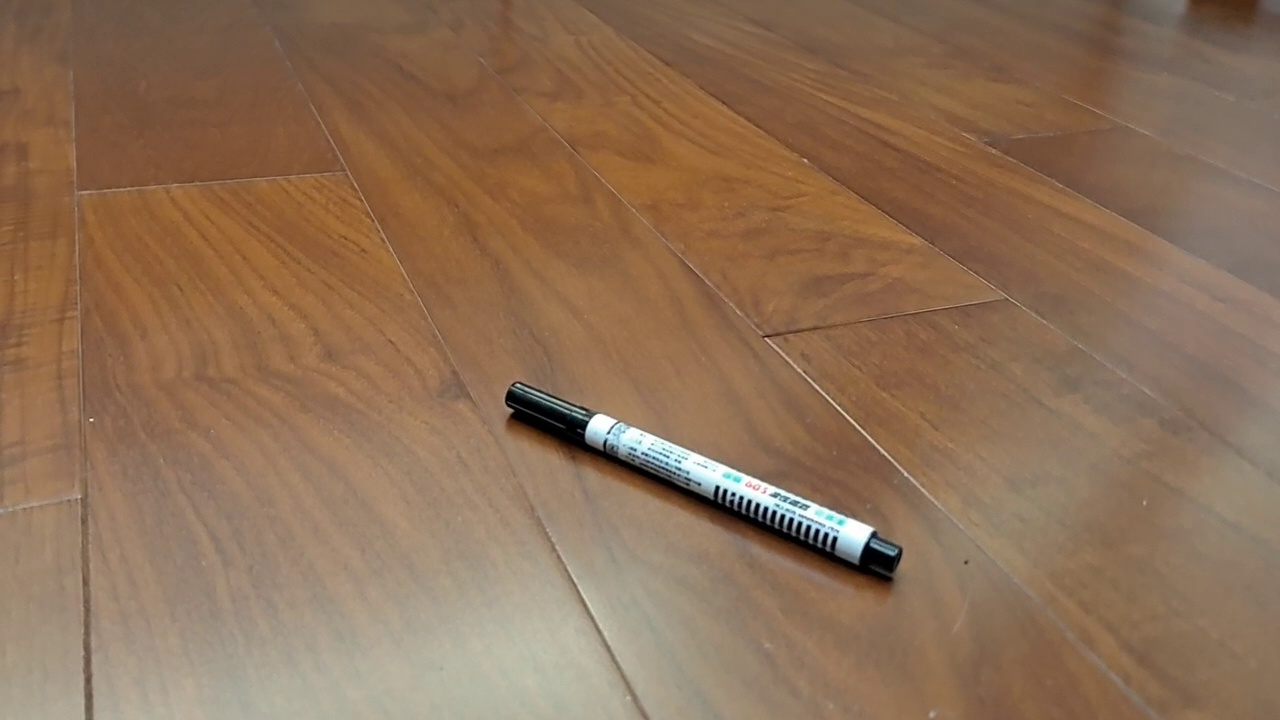pen: (505, 381, 904, 574)
